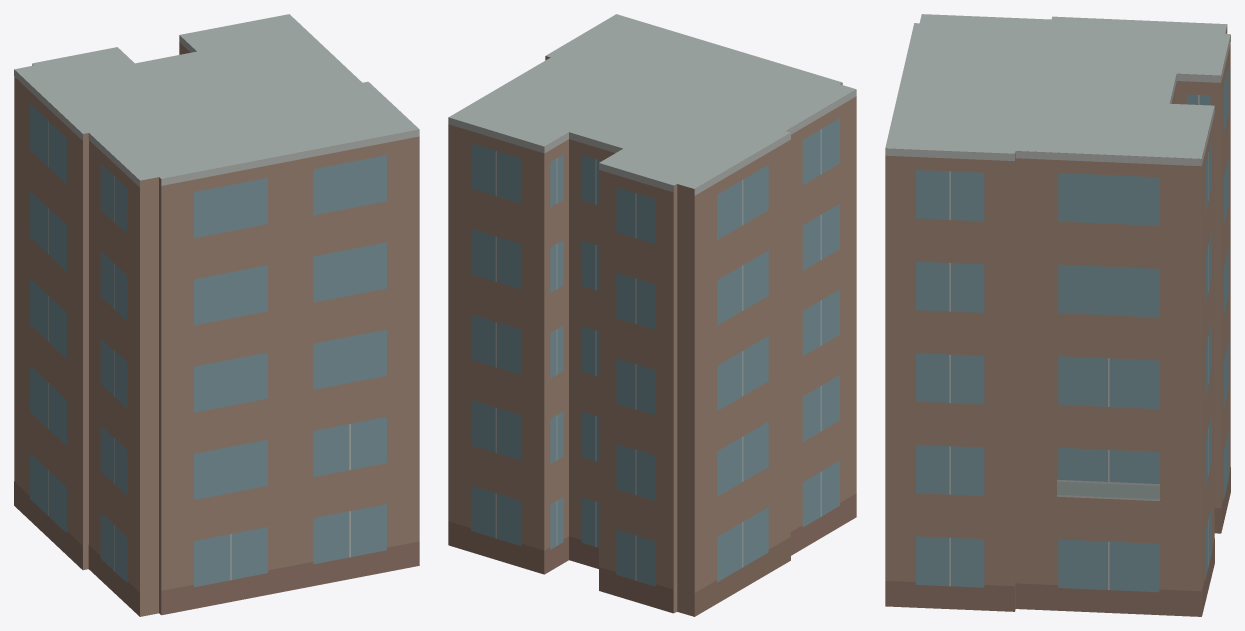
The model's file is survey-upis-32523296.glb.
3 renders of one model, left to right at view 1: azimuth 30°, elevation 25°; view 2: azimuth 150°, elevation 25°; view 3: azimuth 270°, elevation 25°, orthographic. The views are drawn at different scales.
Parts seen in each view (by area): view 1: survey-upis-32523296.tmp; view 2: survey-upis-32523296.tmp; view 3: survey-upis-32523296.tmp.
Boxes of the visible parts, x1=… form: survey-upis-32523296.tmp: x1=14, y1=14, x2=419, y2=616; survey-upis-32523296.tmp: x1=448, y1=14, x2=856, y2=616; survey-upis-32523296.tmp: x1=885, y1=14, x2=1230, y2=616.
Bounding box in the file's own units: 10.32 × 15.2 × 10.4.
